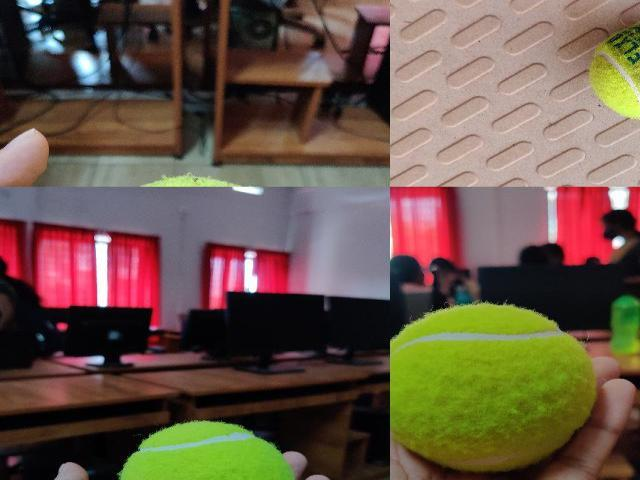tennis-ball: (390, 303, 596, 473), (118, 422, 298, 480), (589, 22, 639, 120), (137, 176, 244, 186)
